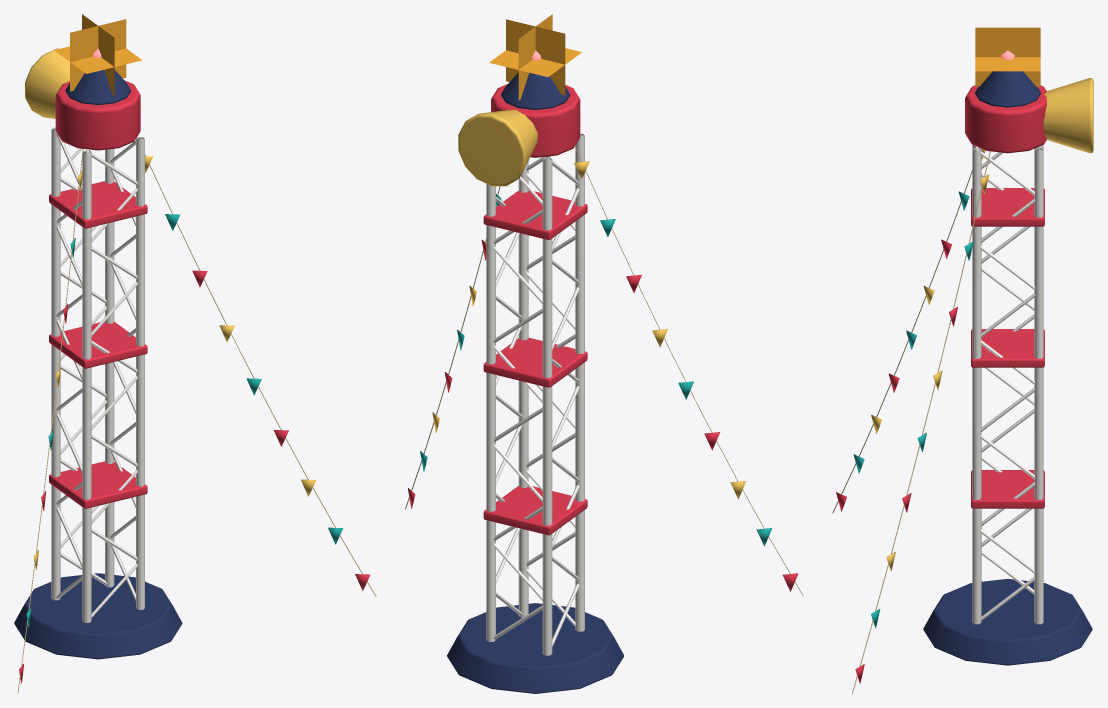
The model's file is sky_mooring_tower.glb.
The picture shows the model from 3 angles, left to right: view 1: azimuth 30°, elevation 25°; view 2: azimuth 150°, elevation 25°; view 3: azimuth 270°, elevation 25°; orthographic projection. The views are drawn at different scales.
Parts seen in each view (by area): view 1: MooringTower; view 2: MooringTower; view 3: MooringTower.
Part boxes in pixels (x1,y1,x2,y2): MooringTower: (14, 14, 376, 693); MooringTower: (405, 14, 803, 693); MooringTower: (832, 27, 1093, 693).
Size of the model in its own units: 11.02 by 17.09 by 6.71.
